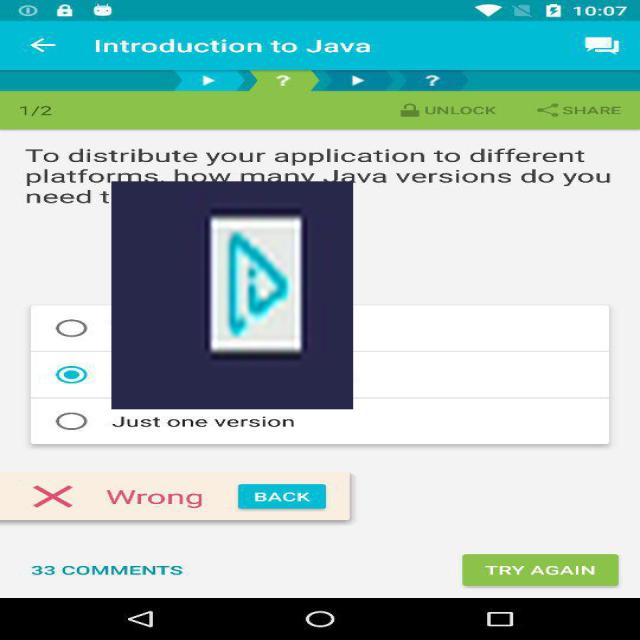sneaking: (112, 182, 354, 410)
